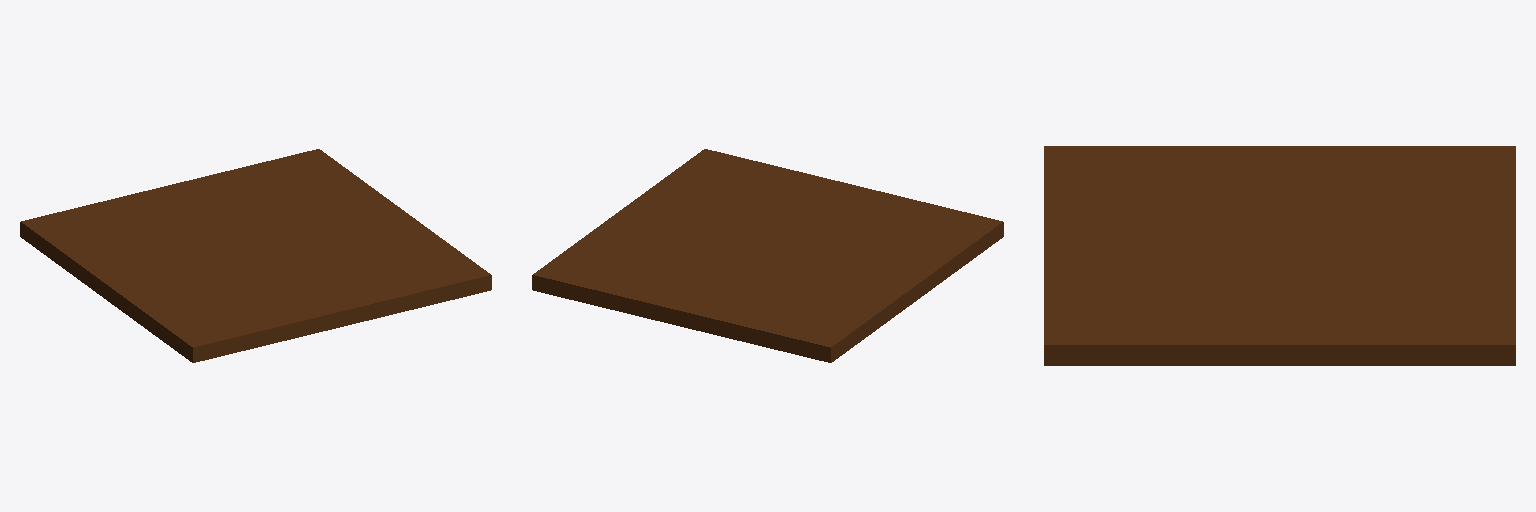
URDF robot description (table):
<?xml version="1.0"?>

<robot name="table">
  <link name="table">

    <!-- rosrun gazebo_ros spawn_model -file $(rospack find ur5_single_arm_tufts)/urdf/objects/table.urdf -urdf -x 0.5 -y -0 -z 0.75 -model table -->
    
    <inertial>
      <origin xyz="0.23 0 0.755" rpy="0 0 0" />
      <mass value="1"/>
      <inertia
        ixx="0.07" ixy="0.0" ixz="0.0"
        iyy="0.40" iyz="0.0"
        izz="0.33"/>
    </inertial>

    <visual>
      <geometry>
        <box size="1 1 0.05"/>
      </geometry>
      <material name="brown">
        <color rgba="0.4 0.25 0.13 1.0"/>
      </material>
    </visual>

    <collision>
      <geometry>
        <box size="1 1 0.05"/>
      </geometry>
    </collision>

  

  <gazebo reference="table">
    <material>Gazebo/Wood</material>
  </gazebo> 

  <gazebo>
    <static>true</static>
  </gazebo>

  </link>

</robot>

--- Facts derived from the render (not from the file) ---
3 views of the same robot in one strip: view 1: azimuth 30°, elevation 25°; view 2: azimuth 150°, elevation 25°; view 3: azimuth 270°, elevation 25° (orthographic).
Robot: table — 1 links, 0 joints (none); root link table; default pose: all joints at 0.
Links seen in each view (by area): view 1: table; view 2: table; view 3: table.
Boxes of the visible links, bbox=[...] form: table: bbox=[20, 149, 491, 362]; table: bbox=[532, 149, 1003, 362]; table: bbox=[1044, 146, 1515, 365].
Size in the robot's own frame: 1 by 1 by 0.05 metres.
Geometry: primitives only (box / cylinder / sphere), no mesh files.
